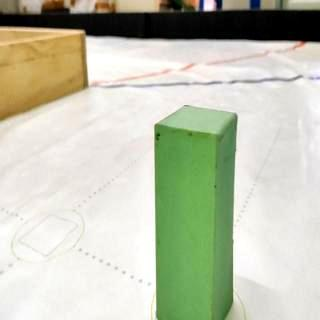greenbox: (152, 102, 239, 320)
